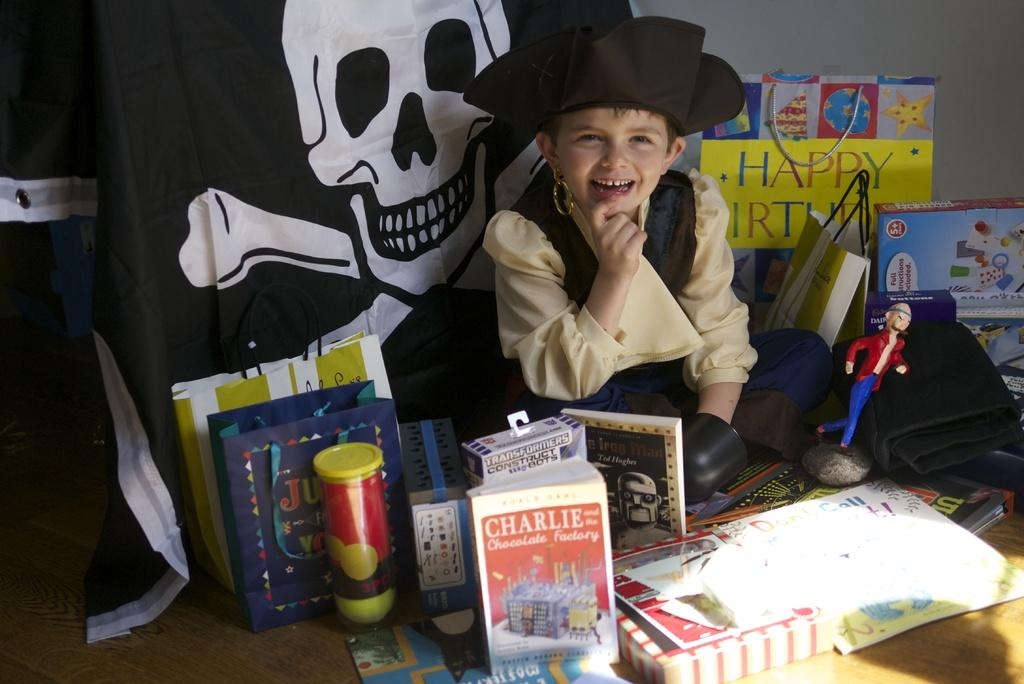Hat: (462, 16, 742, 138)
